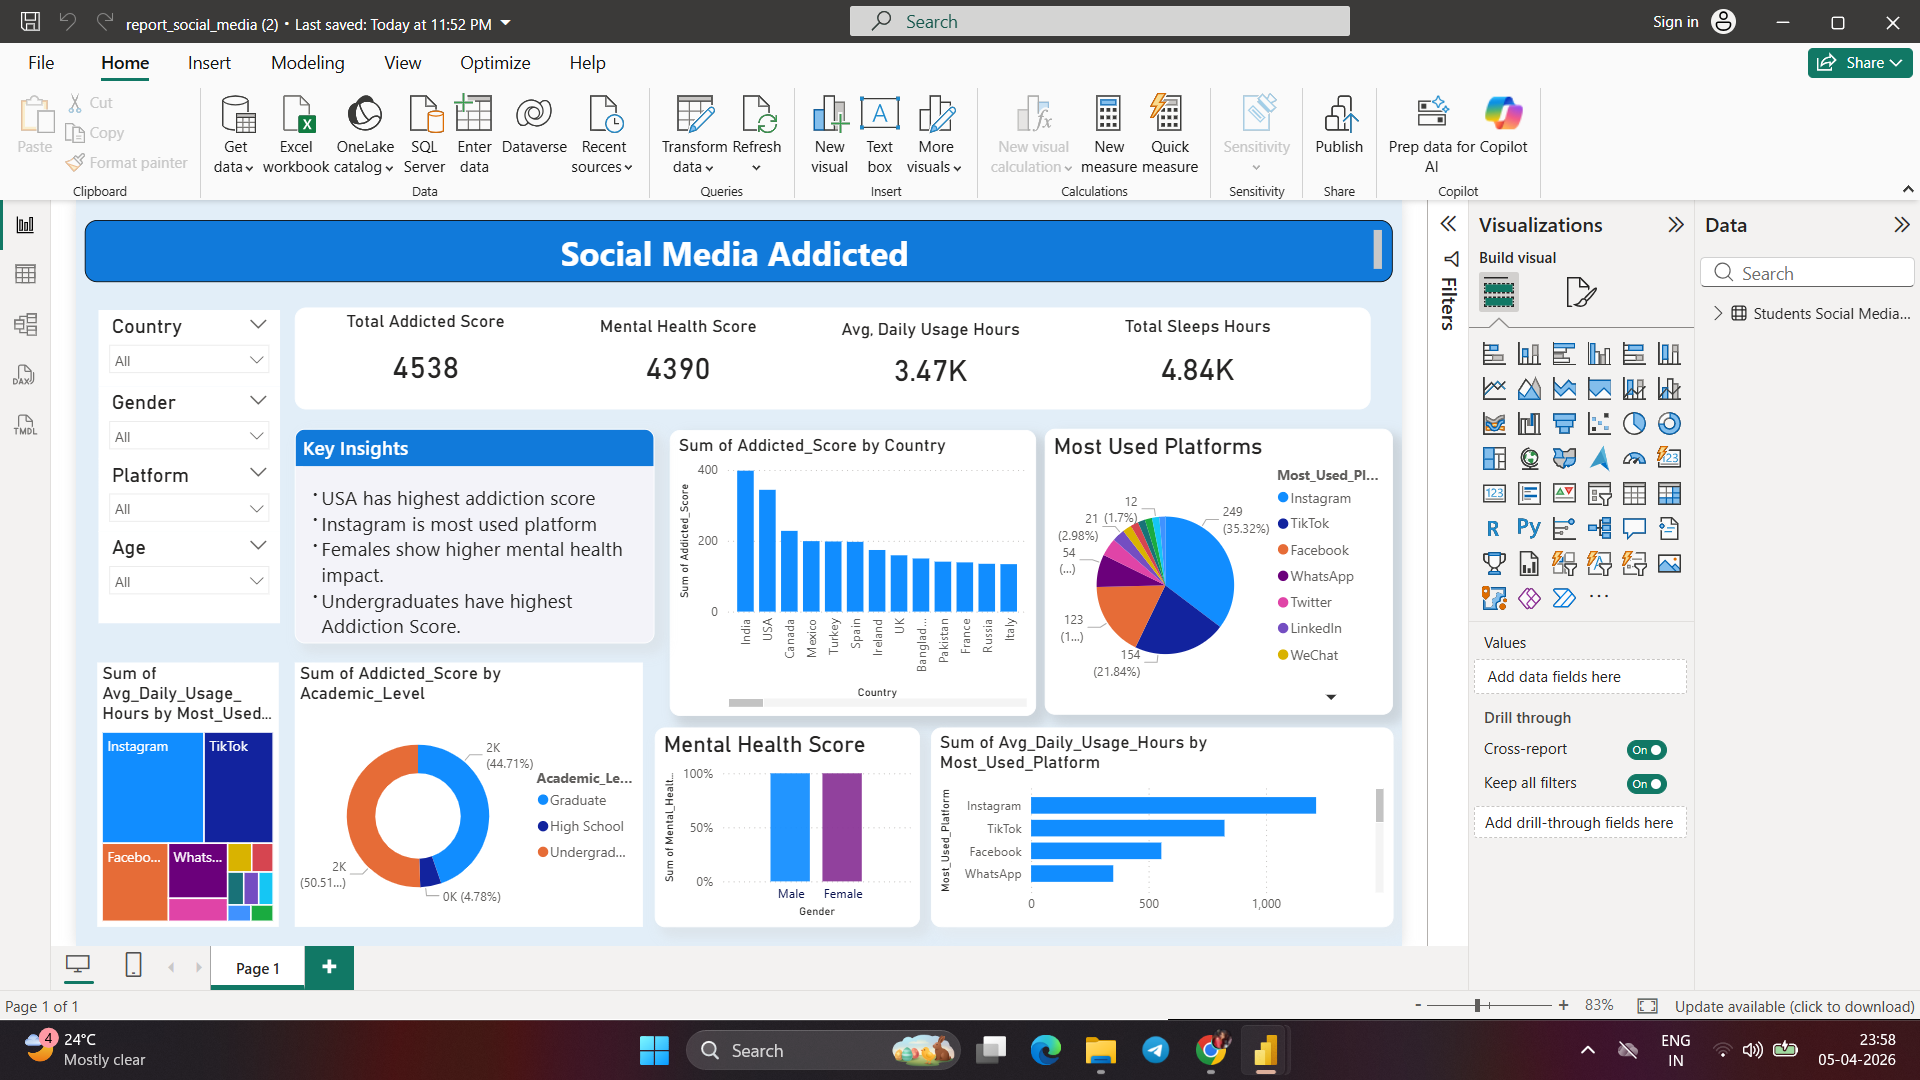

What the dashboard file says about the page in this screenshot:
{"tool":"powerbi","page":{"name":"Page 1","canvas":[1280,720],"ordinal":0},"visuals":[{"type":"clusteredColumnChart","fields":{"Category":["Students Social Media Addiction.Country"],"Y":["Sum(Students Social Media Addiction.Addicted_Score)"]},"box":[572.5,222.5,353.8,276.2],"z":3000},{"type":"pieChart","title":"Most Used Platforms","fields":{"Category":["Students Social Media Addiction.Most_Used_Platform","Students Social Media Addiction.Addicted_Score Hierarchy.Addicted_Score"],"Y":["CountNonNull(Students Social Media Addiction.Student_ID)"]},"box":[935,221.2,336.2,276.2],"z":4000},{"type":"hundredPercentStackedColumnChart","title":"Mental Health Score","fields":{"Category":["Students Social Media Addiction.Gender"],"Y":["Sum(Students Social Media Addiction.Mental_Health_Score)"]},"box":[558.8,508.8,256.2,192.5],"z":7000},{"type":"textbox","box":[8.8,18.8,1262.5,60],"z":8003},{"type":"slicer","fields":{"Values":["Students Social Media Addiction.Country"]},"box":[21.2,106.2,175,73.8],"z":8005},{"type":"slicer","fields":{"Values":["Students Social Media Addiction.Gender"]},"box":[21.2,180,175,70],"z":8006},{"type":"slicer","fields":{"Values":["Students Social Media Addiction.Most_Used_Platform"]},"box":[21.2,250,175,70],"z":8007},{"type":"slicer","fields":{"Values":["Students Social Media Addiction.Age"]},"box":[21.2,320,175,88.8],"z":8008},{"type":"textbox","title":"Key Insights ","box":[211.2,221.2,347.5,207.5],"z":8009},{"type":"clusteredBarChart","fields":{"Y":["Sum(Students Social Media Addiction.Avg_Daily_Usage_Hours)"],"Category":["Students Social Media Addiction.Most_Used_Platform"]},"box":[825,508.8,446.2,192.5],"z":8010},{"type":"donutChart","fields":{"Y":["Sum(Students Social Media Addiction.Addicted_Score)"],"Series":["Students Social Media Addiction.Academic_Level"]},"box":[211.2,446.2,336.2,255],"z":8011},{"type":"textbox","box":[211.2,103.8,1038.8,98.8],"z":8012},{"type":"card","title":"Total Addicted Score","fields":{"Values":["Sum(Students Social Media Addiction.Addicted_Score)"]},"box":[238.8,106.2,197.5,86.2],"z":8013},{"type":"card","title":"Mental Health Score","fields":{"Values":["Sum(Students Social Media Addiction.Mental_Health_Score)"]},"box":[445,111.2,272.5,78.8],"z":8014},{"type":"card","title":"Avg, Daily Usage Hours","fields":{"Values":["Sum(Students Social Media Addiction.Avg_Daily_Usage_Hours)"]},"box":[691.2,115,267.5,75],"z":8015},{"type":"card","title":"Total Sleeps Hours","fields":{"Values":["Sum(Students Social Media Addiction.Sleep_Hours_Per_Night)"]},"box":[946.2,111.2,273.8,81.2],"z":8016},{"type":"treemap","fields":{"Values":["Sum(Students Social Media Addiction.Avg_Daily_Usage_Hours)"],"Group":["Students Social Media Addiction.Most_Used_Platform"]},"box":[21,446,175,255],"z":8017}]}

Visuals, with their boxes on the page's 1280x720 design canvas (x1, y1, x2, y2). These are canvas units, not pixel positions in the 1920x1080 screenshot, which may show the page scaled, cropped or inside an application window:
clusteredColumnChart - Students Social Media Addiction.Country x Sum(Students Social Media Addiction.Addicted_Score): box=[572, 222, 926, 499]
"Most Used Platforms" pieChart: box=[935, 221, 1271, 497]
"Mental Health Score" hundredPercentStackedColumnChart: box=[559, 509, 815, 701]
textbox: box=[9, 19, 1271, 79]
slicer - Students Social Media Addiction.Country: box=[21, 106, 196, 180]
slicer - Students Social Media Addiction.Gender: box=[21, 180, 196, 250]
slicer - Students Social Media Addiction.Most_Used_Platform: box=[21, 250, 196, 320]
slicer - Students Social Media Addiction.Age: box=[21, 320, 196, 409]
"Key Insights " textbox: box=[211, 221, 559, 429]
clusteredBarChart - Sum(Students Social Media Addiction.Avg_Daily_Usage_Hours) x Students Social Media Addiction.Most_Used_Platform: box=[825, 509, 1271, 701]
donutChart - Sum(Students Social Media Addiction.Addicted_Score) x Students Social Media Addiction.Academic_Level: box=[211, 446, 547, 701]
textbox: box=[211, 104, 1250, 203]
"Total Addicted Score" card: box=[239, 106, 436, 192]
"Mental Health Score" card: box=[445, 111, 718, 190]
"Avg, Daily Usage Hours" card: box=[691, 115, 959, 190]
"Total Sleeps Hours" card: box=[946, 111, 1220, 192]
treemap - Sum(Students Social Media Addiction.Avg_Daily_Usage_Hours) x Students Social Media Addiction.Most_Used_Platform: box=[21, 446, 196, 701]
